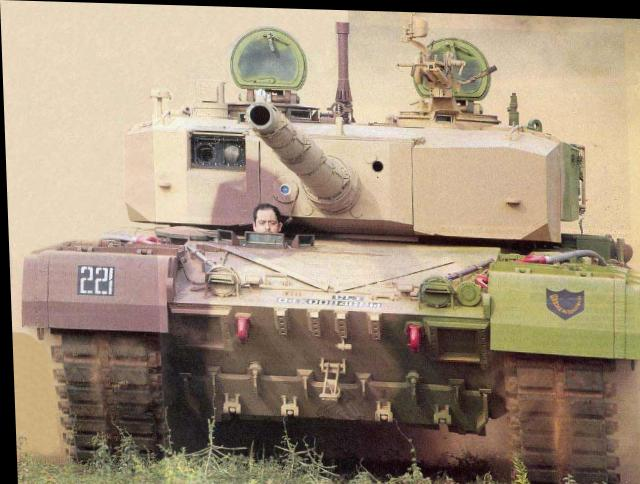tank: (7, 32, 640, 475)
